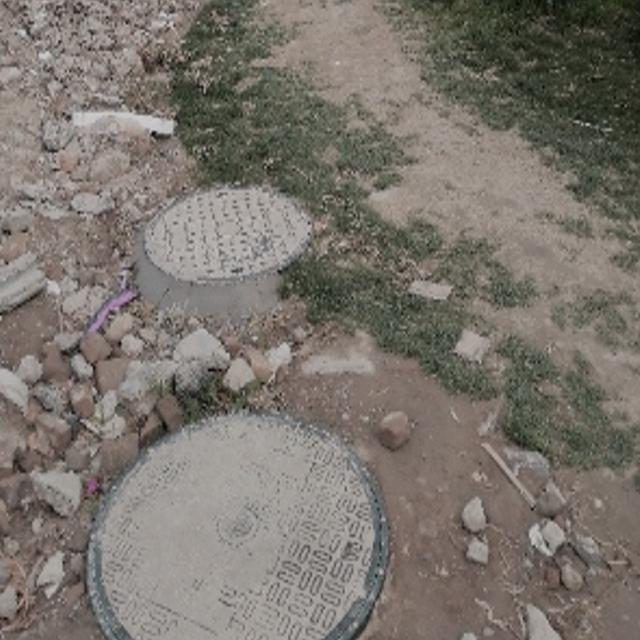good: (86, 408, 388, 640), (142, 181, 318, 283)
